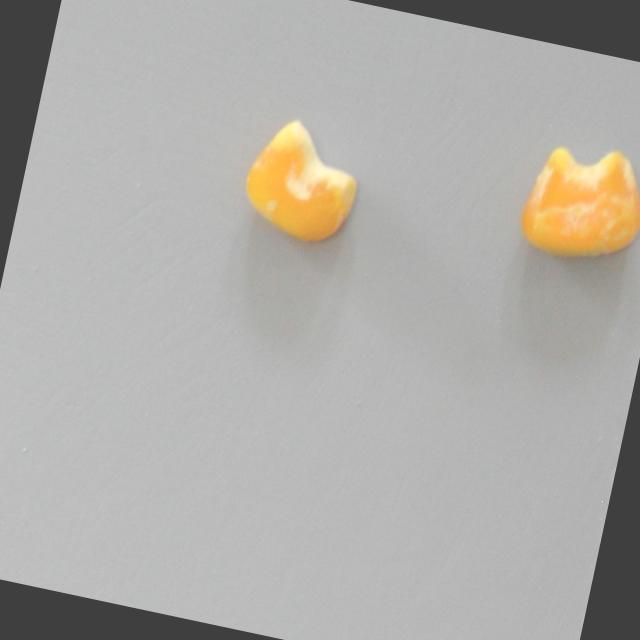pelicula: (229, 107, 373, 255), (510, 128, 640, 274)
